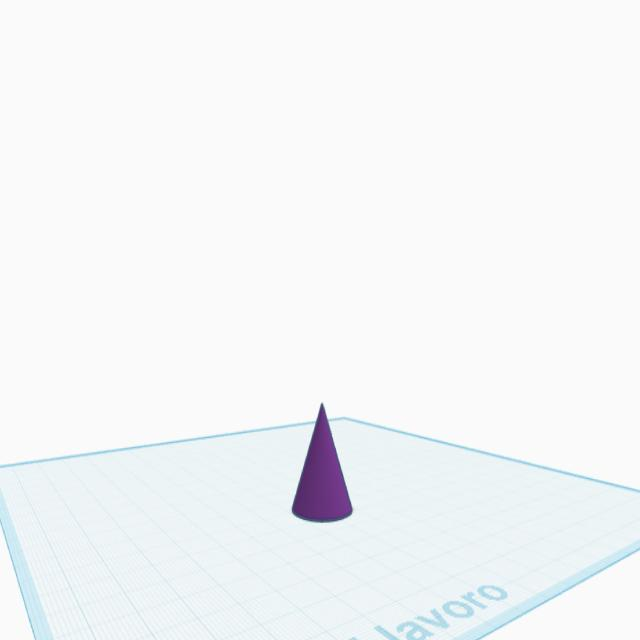cone: (288, 397, 355, 528)
